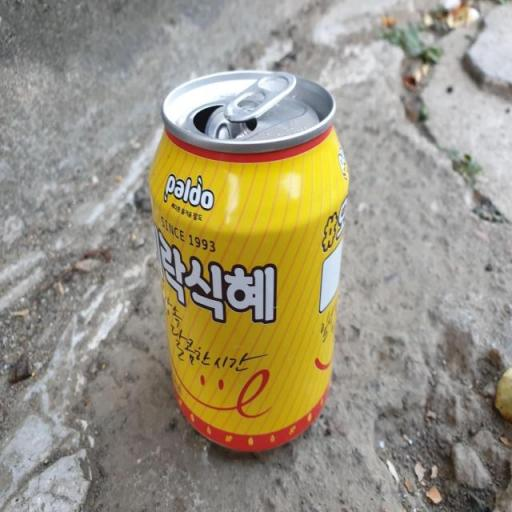metal: (132, 63, 360, 469)
